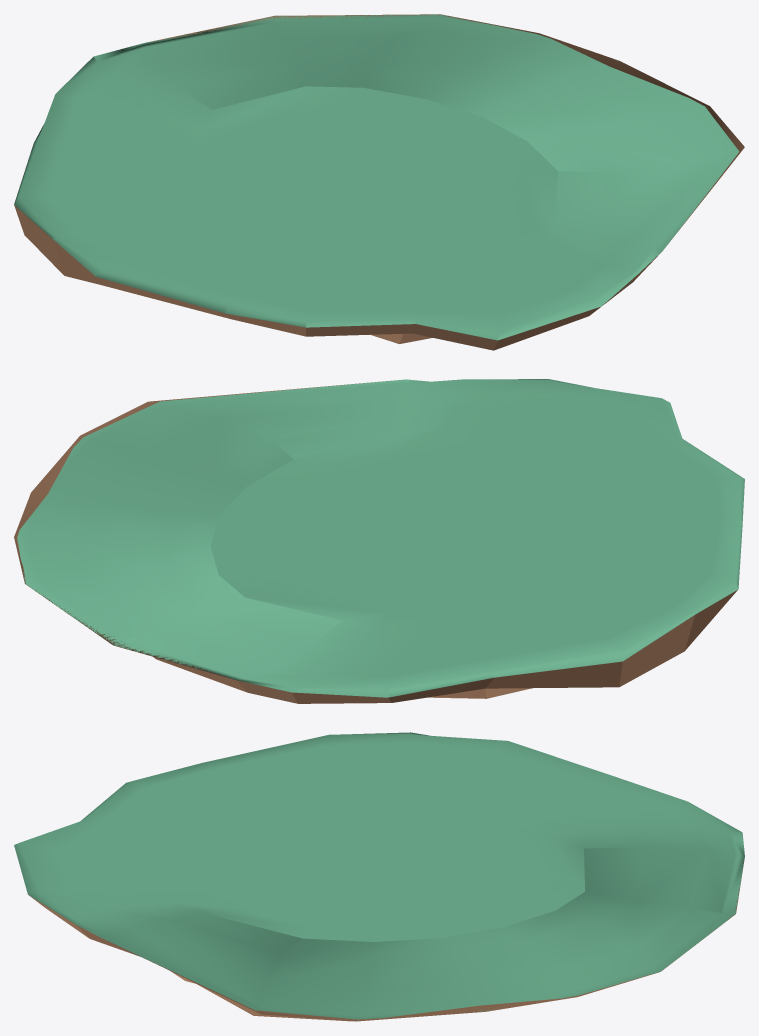
Rendered from island3_top.fbx.
3 views of the same model, one above another, from view 1: azimuth 30°, elevation 25°; view 2: azimuth 150°, elevation 25°; view 3: azimuth 270°, elevation 25° (orthographic). The views are drawn at different scales.
Parts seen in each view (by area): view 1: pCylinder1; view 2: pCylinder1; view 3: pCylinder1.
Boxes of the visible parts, x1=… form: pCylinder1: x1=14, y1=14, x2=744, y2=350; pCylinder1: x1=14, y1=379, x2=744, y2=703; pCylinder1: x1=14, y1=732, x2=744, y2=1021.
Bounding box in the file's own units: 29 × 3.76 × 31.
